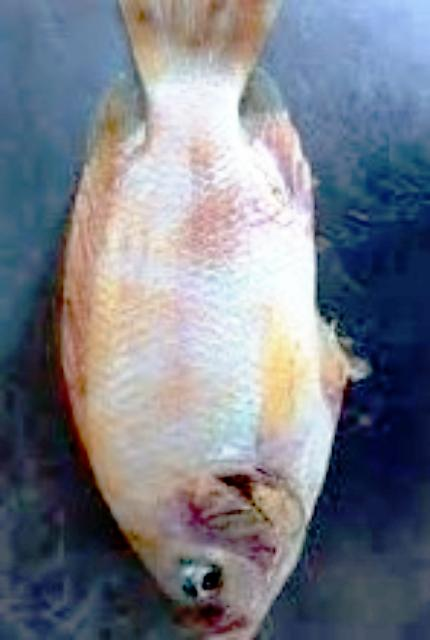Tilapia Lake Virus -TiLV-: (64, 0, 348, 640)
